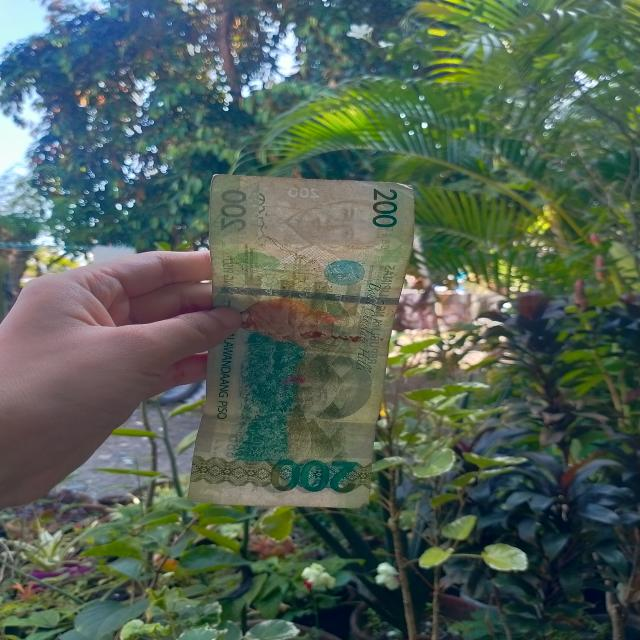security_thread: (210, 284, 397, 306)
see_through_mark: (244, 189, 274, 251)
value: (267, 456, 359, 495)
value_watermark: (280, 184, 323, 202)
watermark: (242, 193, 392, 262)
